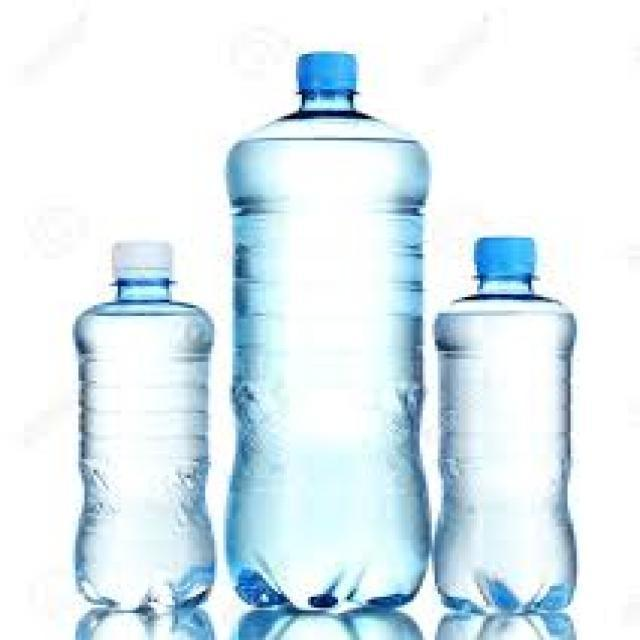Plastic: (224, 50, 430, 617), (69, 236, 218, 614), (430, 234, 577, 614)
